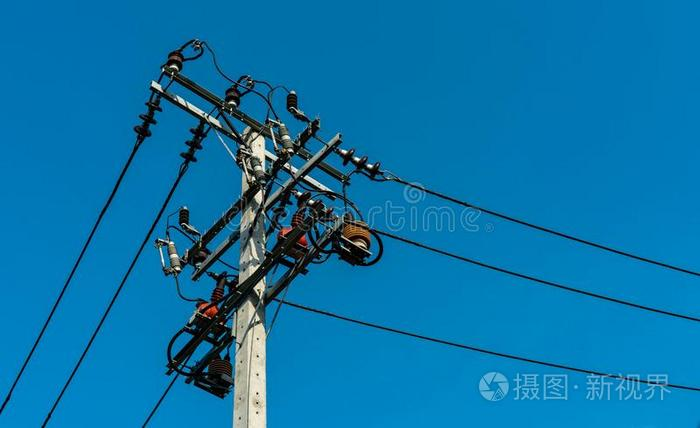insulator: (344, 146, 381, 181), (132, 99, 164, 139), (178, 127, 207, 163)
